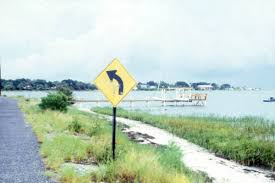curveLeft: (92, 57, 138, 104)
curveRight: (91, 56, 140, 104)
